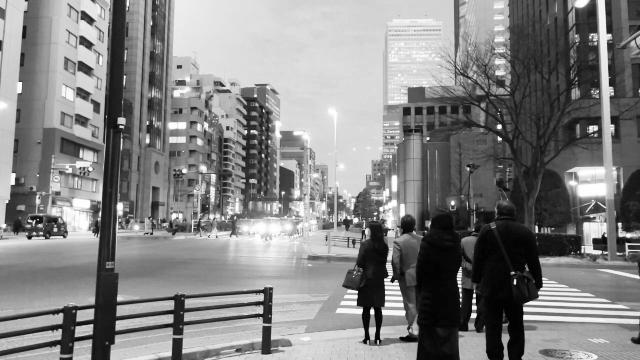berdiri: (472, 195, 542, 360), (414, 208, 464, 360), (342, 215, 390, 345), (394, 212, 426, 341)
